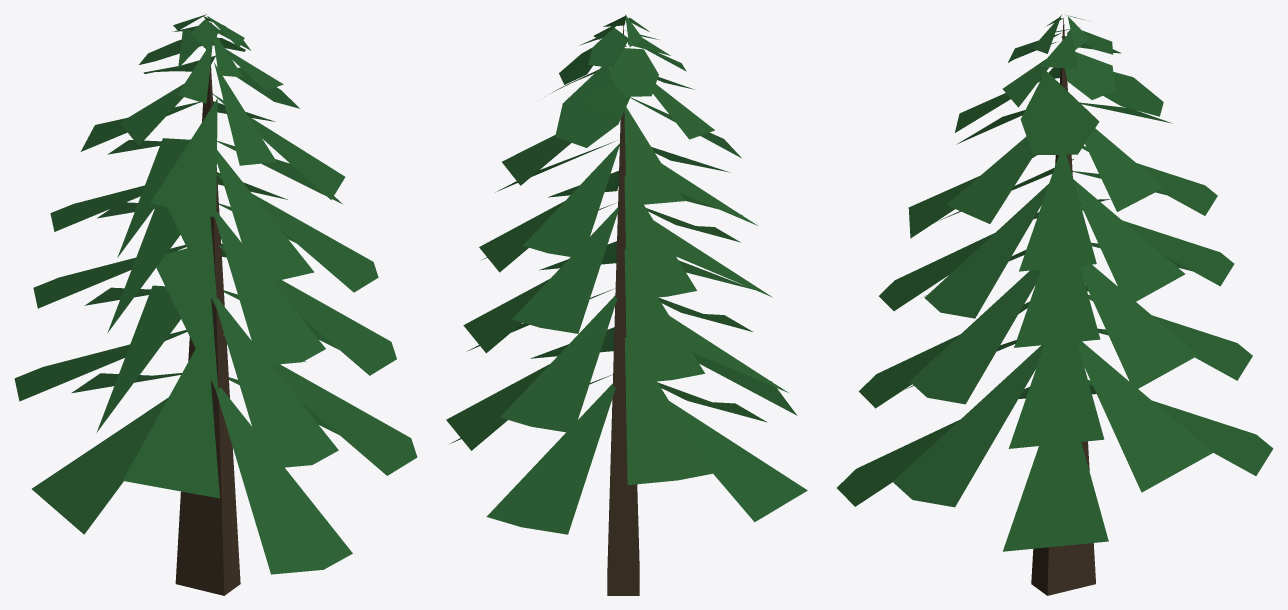
Rendered from Snowy Forest Tree 4 (Low Quality).fbx.
The picture shows the model from 3 angles, left to right: view 1: azimuth 30°, elevation 25°; view 2: azimuth 150°, elevation 25°; view 3: azimuth 270°, elevation 25°; orthographic projection.
Visible parts, largest first — view 1: Cylinder.001; view 2: Cylinder.001; view 3: Cylinder.001.
Boxes of the visible parts, left/top/right/bottom form: Cylinder.001: left=14, top=14, right=417, bottom=595; Cylinder.001: left=446, top=14, right=807, bottom=595; Cylinder.001: left=837, top=14, right=1273, bottom=595.
Bounding box in the file's own units: 745 × 1317 × 916.
